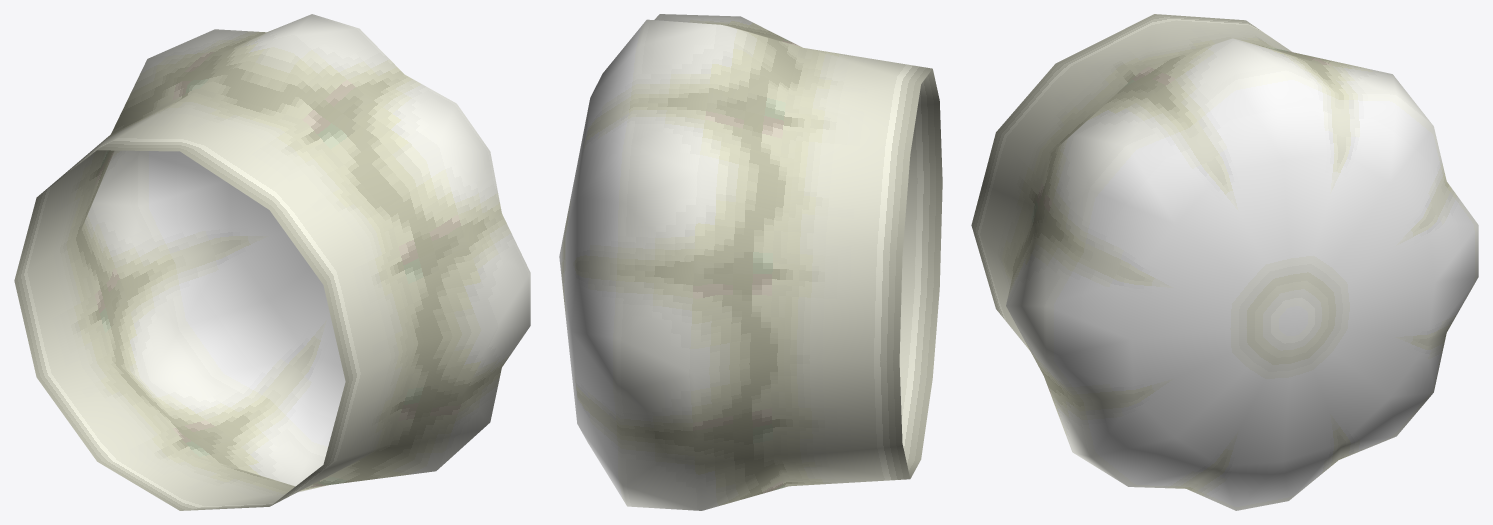
File: cap_hat_chefs.dae
3 views of the same model, side by side, from view 1: azimuth 30°, elevation 25°; view 2: azimuth 150°, elevation 25°; view 3: azimuth 270°, elevation 25° (orthographic). The views are drawn at different scales.
Visible parts, largest first — view 1: cap_hat_chefs; view 2: cap_hat_chefs; view 3: cap_hat_chefs.
Part boxes in pixels (x1,y1,x2,y2): cap_hat_chefs: (14, 14, 530, 510); cap_hat_chefs: (559, 14, 942, 510); cap_hat_chefs: (971, 14, 1478, 510).
Size of the model in its own units: 23.61 by 26.91 by 27.51.
1 material, 1 textured.
